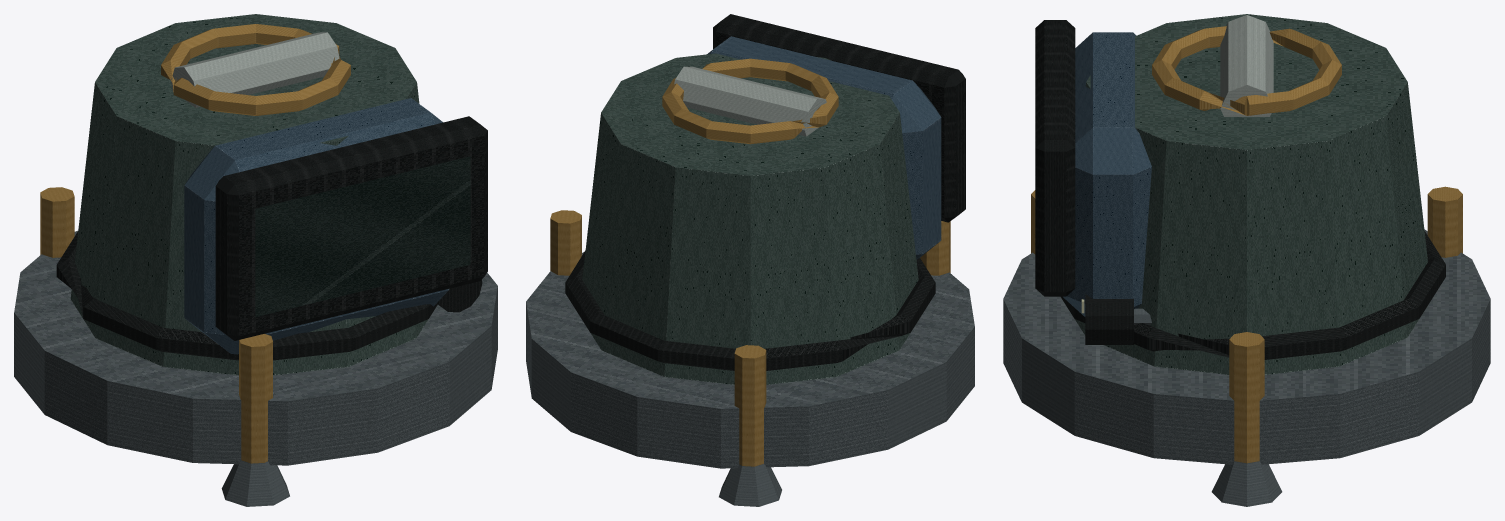
The model's file is blender_seismic_recorder_2.glb.
3 renders of one model, left to right at view 1: azimuth 30°, elevation 25°; view 2: azimuth 150°, elevation 25°; view 3: azimuth 270°, elevation 25°, orthographic. The views are drawn at different scales.
Visible parts, largest first — view 1: blender_seismic_recorder_2; view 2: blender_seismic_recorder_2; view 3: blender_seismic_recorder_2.
Part boxes in pixels (left/top/right/bottom): blender_seismic_recorder_2: left=14, top=14, right=497, bottom=506; blender_seismic_recorder_2: left=526, top=14, right=974, bottom=506; blender_seismic_recorder_2: left=1003, top=14, right=1490, bottom=506.
Size of the model in its own units: 0.1147 by 0.086 by 0.11.
Materials: 8 (8 with a texture image).
